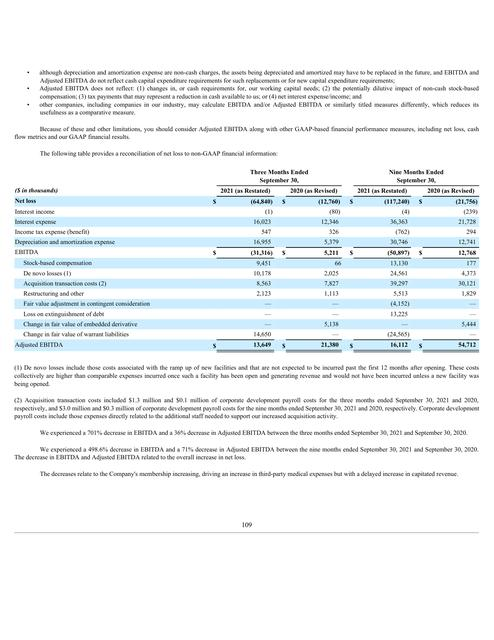box: (12, 168, 484, 357)
